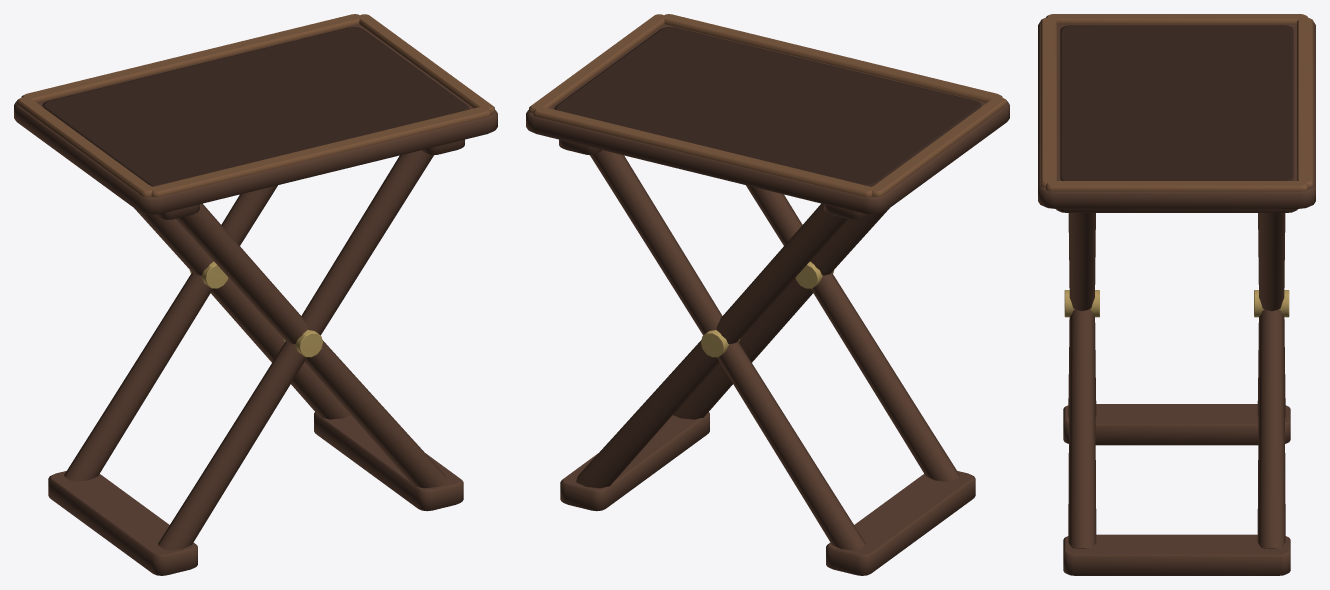
The model's file is rpg-mansion-folding-tea-tray-table-01.glb.
3 views of the same model, side by side, from view 1: azimuth 30°, elevation 25°; view 2: azimuth 150°, elevation 25°; view 3: azimuth 270°, elevation 25° (orthographic).
Parts seen in each view (by area): view 1: rpg-mansion-folding-tea-tray-table-01; view 2: rpg-mansion-folding-tea-tray-table-01; view 3: rpg-mansion-folding-tea-tray-table-01.
Part boxes in pixels (x1,y1,x2,y2): rpg-mansion-folding-tea-tray-table-01: [14, 14, 497, 575]; rpg-mansion-folding-tea-tray-table-01: [526, 14, 1009, 575]; rpg-mansion-folding-tea-tray-table-01: [1038, 14, 1315, 575].
Bounding box in the file's own units: 0.66 × 0.7 × 0.44.
